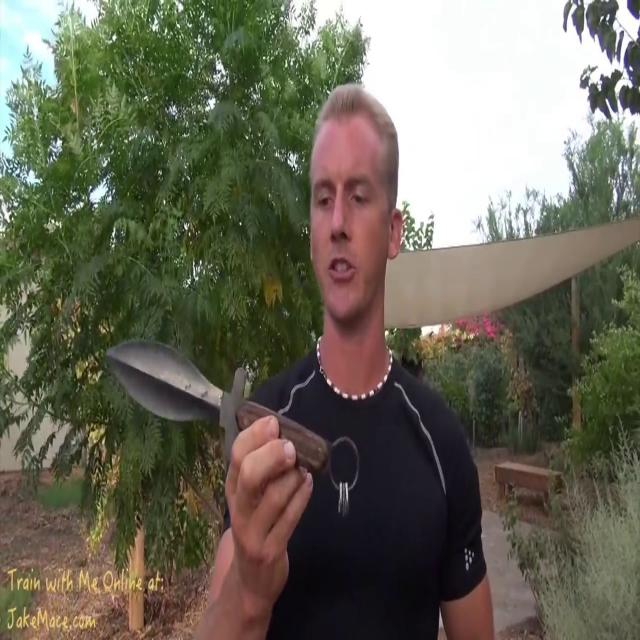knife: (98, 328, 366, 514)
